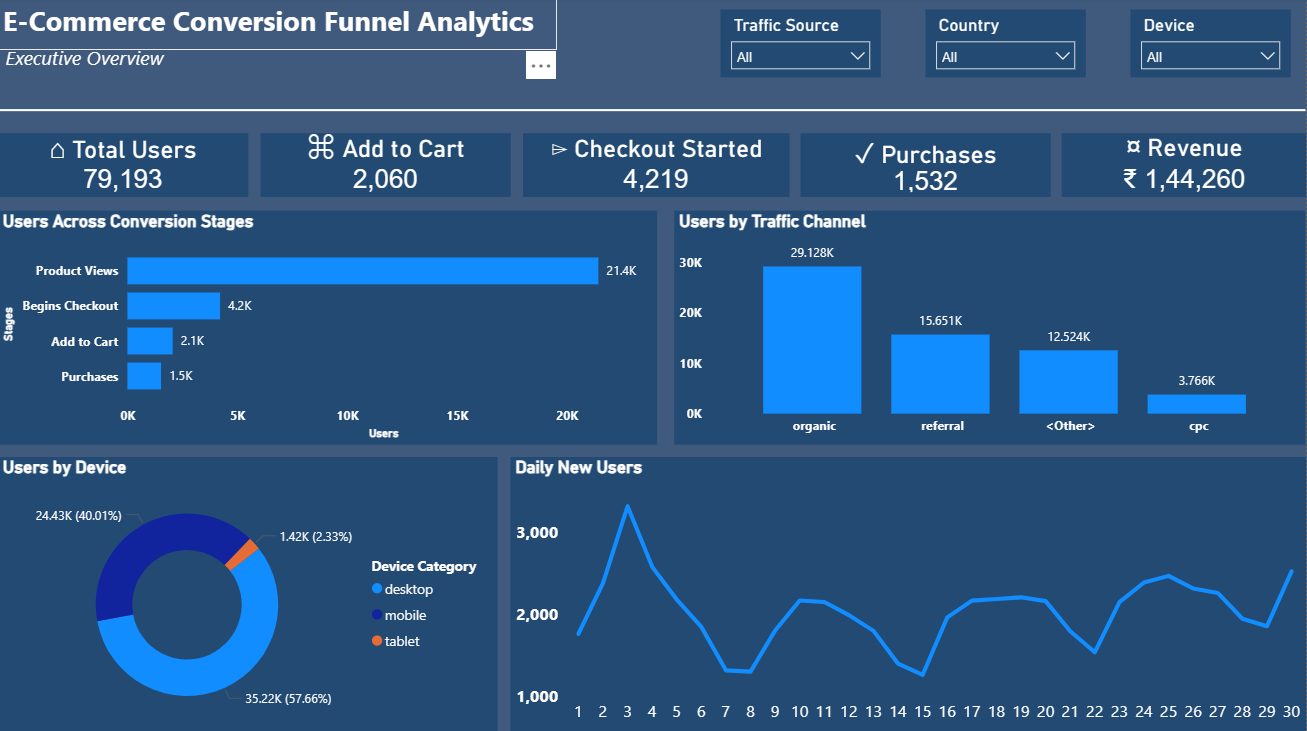

The page's visual inventory and layout, read from the dashboard file:
{"tool":"powerbi","page":{"name":"Page 1","canvas":[1280,720],"ordinal":0},"visuals":[{"type":"textbox","box":[0,0,546.6,51.4],"z":0},{"type":"card","title":"⌂  Total Users","fields":{"Values":["Sum(fct_funnel_kpis.total_users)"]},"box":[0,132.7,244.6,62.6],"z":1000},{"type":"textbox","box":[2.4,41.6,346.1,39.1],"z":2000},{"type":"slicer","fields":{"Values":["fct_funnel_user_metrics.country"]},"box":[907.3,12.2,156.5,66],"z":3000,"group":"g1"},{"type":"card","title":"⌘  Add to Cart","fields":{"Values":["Sum(fct_funnel_kpis.users_add_to_cart)"]},"box":[256.8,133.3,244.6,62.4],"z":3000},{"type":"slicer","fields":{"Values":["fct_funnel_user_metrics.device_category"]},"box":[1107.9,12.2,156.5,66],"z":4000,"group":"g1"},{"type":"card","title":"⌲  Checkout Started","fields":{"Values":["Sum(fct_funnel_kpis.users_begin_checkout)"]},"box":[513.6,133.3,260.5,62.4],"z":4000},{"type":"slicer","fields":{"Values":["fct_funnel_user_metrics.traffic_source"]},"box":[706.8,12.2,156.5,66],"z":5000,"group":"g1"},{"type":"shape","box":[0,97.8,1280,25.7],"z":5000},{"type":"card","title":"✓  Purchases","fields":{"Values":["Sum(fct_funnel_kpis.users_purchase)"]},"box":[785.1,133.3,244.6,62.4],"z":6000},{"type":"card","title":"¤  Revenue","fields":{"Values":["Sum(fct_funnel_kpis.total_revenue)"]},"box":[1040.6,133.3,239.7,62.4],"z":7000},{"type":"group","id":"g1","title":"Group 1","box":[706.8,12.2,557.6,66],"z":8000},{"type":"barChart","title":"Users Across Conversion Stages","fields":{"Category":["funnel_stages.Stage"],"Y":["Sum(funnel_stages.Users)"]},"box":[0,209.1,644.4,228.7],"z":9000},{"type":"columnChart","title":"Users by Traffic Channel","fields":{"Y":["Count(fct_funnel_user_metrics.user_id)"],"Category":["fct_funnel_user_metrics.traffic_medium"]},"box":[661.6,209.1,618.8,228.7],"z":10000},{"type":"donutChart","title":"Users by Device","fields":{"Category":["fct_funnel_user_metrics.device_category"],"Y":["CountNonNull(fct_funnel_user_metrics.user_id)"]},"box":[0,450,489.1,270.2],"z":11000},{"type":"lineChart","title":"Daily New Users ","fields":{"Y":["Count(fct_funnel_user_metrics.user_id)"],"Category":["fct_funnel_user_metrics.first_activity_date.Variation.Date Hierarchy.Day"]},"box":[501.4,450,778.9,270.2],"z":12000}]}

Visuals, with their boxes in screenshot pixels (x1, y1, x2, y2), scaled from the page's 1280x720 canvas onto the 1307x731 screenshot:
textbox: {"x1": 0, "y1": 0, "x2": 558, "y2": 52}
"⌂  Total Users" card: {"x1": 0, "y1": 135, "x2": 250, "y2": 198}
textbox: {"x1": 2, "y1": 42, "x2": 356, "y2": 82}
slicer - fct_funnel_user_metrics.country: {"x1": 926, "y1": 12, "x2": 1086, "y2": 79}
"⌘  Add to Cart" card: {"x1": 262, "y1": 135, "x2": 512, "y2": 199}
slicer - fct_funnel_user_metrics.device_category: {"x1": 1131, "y1": 12, "x2": 1291, "y2": 79}
"⌲  Checkout Started" card: {"x1": 524, "y1": 135, "x2": 790, "y2": 199}
slicer - fct_funnel_user_metrics.traffic_source: {"x1": 722, "y1": 12, "x2": 882, "y2": 79}
shape: {"x1": 0, "y1": 99, "x2": 1306, "y2": 125}
"✓  Purchases" card: {"x1": 802, "y1": 135, "x2": 1051, "y2": 199}
"¤  Revenue" card: {"x1": 1063, "y1": 135, "x2": 1306, "y2": 199}
"Group 1" group: {"x1": 722, "y1": 12, "x2": 1291, "y2": 79}
"Users Across Conversion Stages" barChart: {"x1": 0, "y1": 212, "x2": 658, "y2": 444}
"Users by Traffic Channel" columnChart: {"x1": 676, "y1": 212, "x2": 1306, "y2": 444}
"Users by Device" donutChart: {"x1": 0, "y1": 457, "x2": 499, "y2": 730}
"Daily New Users " lineChart: {"x1": 512, "y1": 457, "x2": 1306, "y2": 730}
